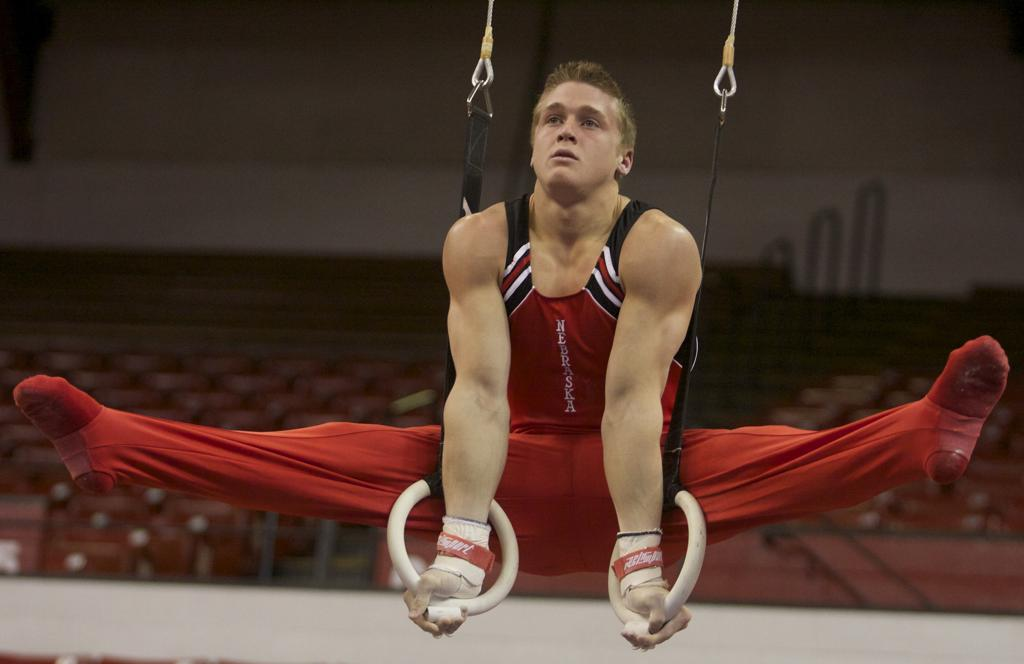face: (530, 90, 620, 190)
